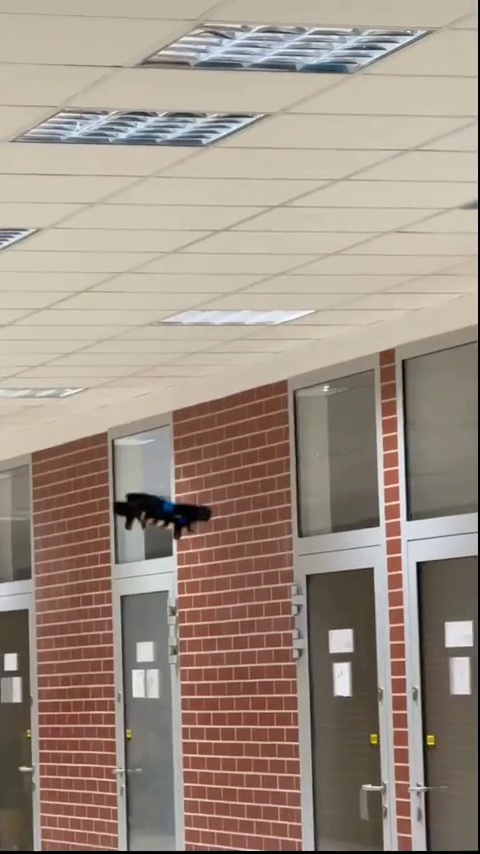drone: (112, 493, 211, 534)
